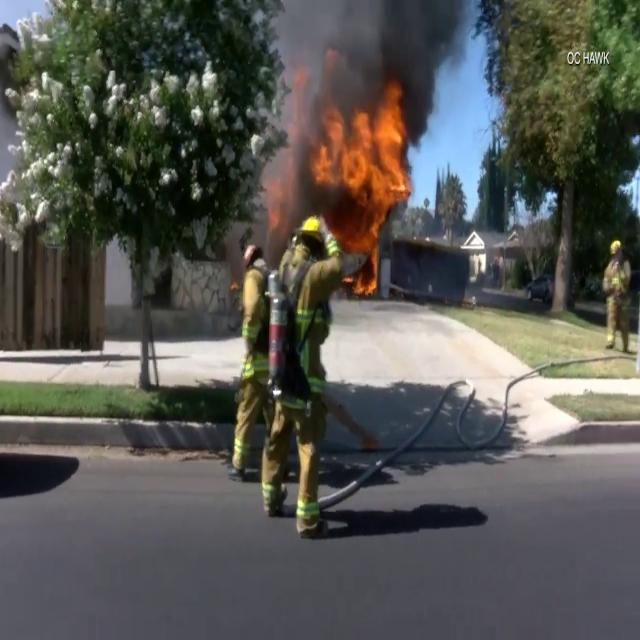Fire: (301, 84, 419, 270)
Smoke: (262, 0, 476, 123)
